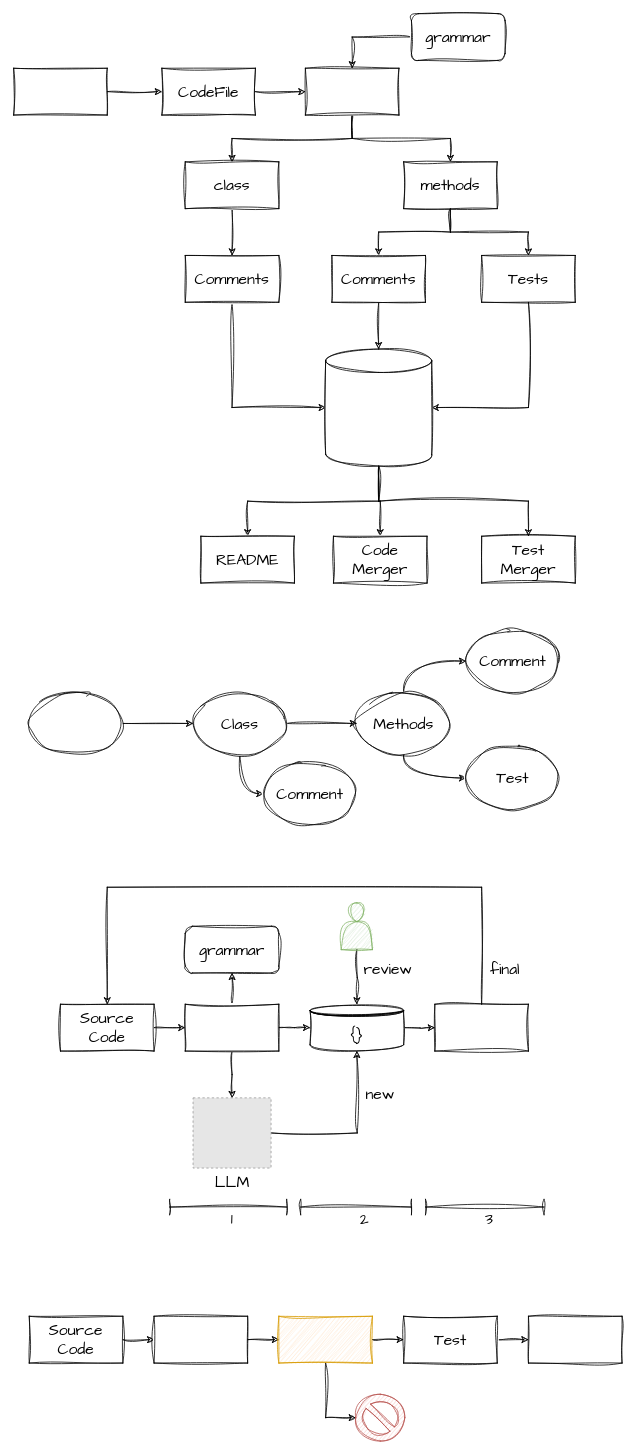
Image size: 636x1455. Some labels were removed from this diagram. Grey dashed boxes stand in for pictures. The box of each missing label's shape, as (x1, y1, x2, y2) in pixels:
CodeTree: (13, 67, 107, 115)
Compile: (153, 1315, 248, 1363)
Deploy: (528, 1315, 622, 1363)
File: (28, 691, 123, 755)
Graph: (325, 348, 432, 466)
Merge: (434, 1003, 528, 1051)
Parse: (184, 1003, 279, 1051)
Parser: (305, 67, 399, 115)
Prose: (278, 1315, 372, 1363)
